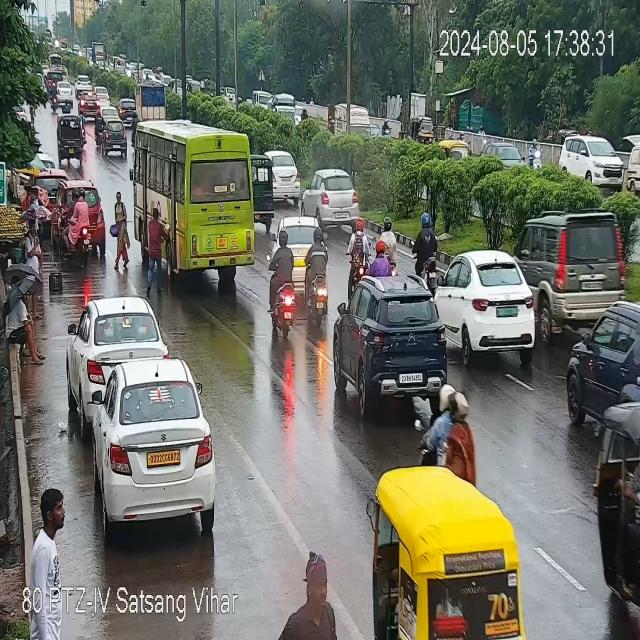2-wheelers: (421, 384, 473, 462), (346, 214, 410, 273), (272, 231, 298, 335), (306, 228, 330, 329), (62, 190, 90, 266), (411, 208, 434, 267), (526, 136, 541, 173), (92, 109, 104, 148), (51, 81, 57, 110), (301, 103, 309, 121), (62, 97, 70, 113), (382, 120, 389, 136)
auto: (332, 278, 458, 402), (601, 416, 640, 631), (598, 400, 640, 513), (58, 113, 88, 163), (433, 139, 478, 164), (414, 116, 439, 146)
bus: (361, 452, 531, 639), (124, 114, 257, 276)
car: (79, 356, 218, 530), (528, 213, 632, 318), (431, 250, 540, 348), (561, 306, 637, 443), (71, 298, 165, 394), (546, 134, 633, 182), (54, 178, 108, 250), (301, 172, 363, 224), (253, 91, 304, 124), (270, 151, 304, 200), (482, 143, 524, 175), (32, 152, 65, 185), (104, 120, 128, 157), (77, 94, 101, 118), (52, 82, 78, 103), (117, 96, 135, 123), (72, 75, 94, 90), (97, 84, 111, 105), (104, 106, 122, 121)
pedestrian: (276, 565, 344, 639), (31, 489, 71, 597), (4, 273, 45, 360), (146, 207, 168, 283), (28, 226, 45, 311), (25, 186, 51, 227), (116, 190, 129, 262)
truck: (330, 104, 379, 141), (135, 82, 167, 120)
